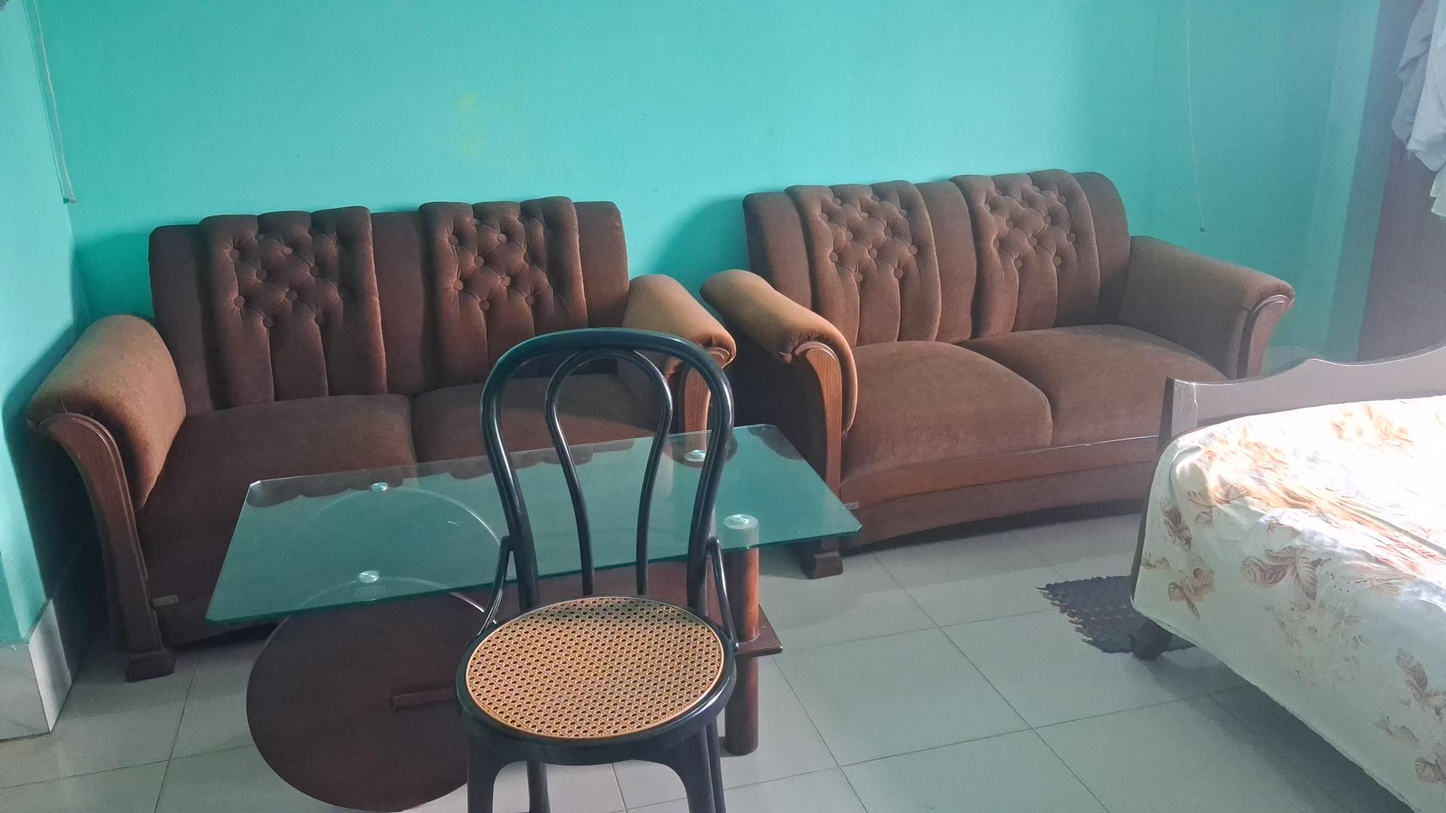Chair: (455, 334, 733, 813)
